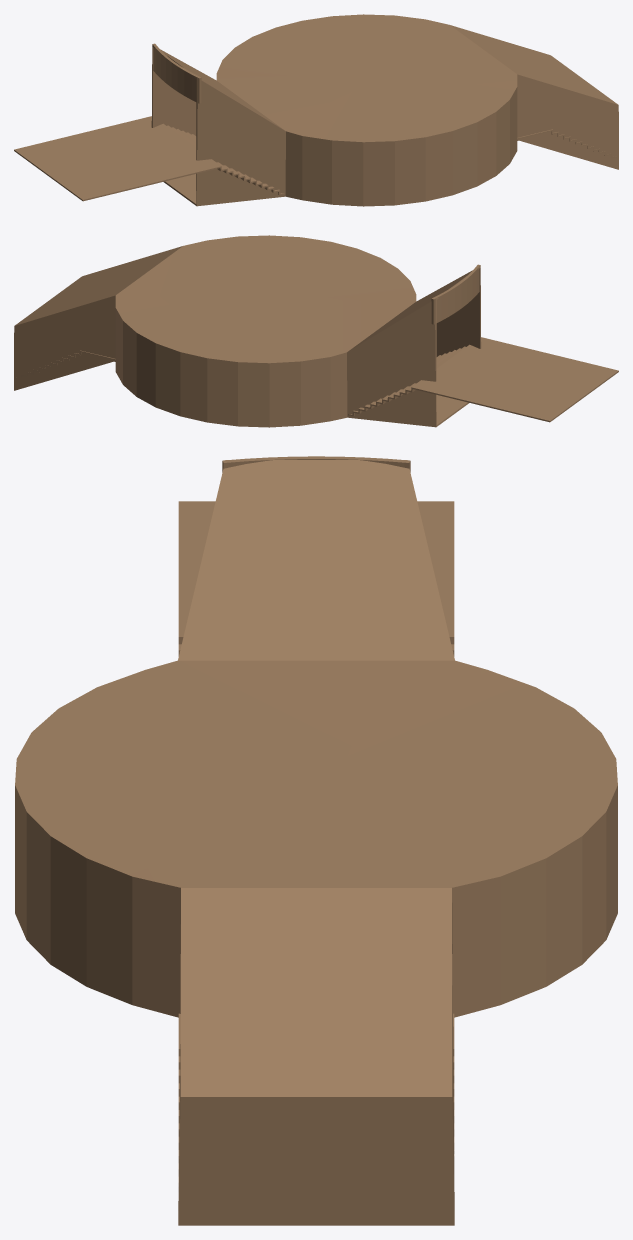
The model's file is CollisionLowerLVLHall.fbx.
3 views of the same model, one above another, from view 1: azimuth 30°, elevation 25°; view 2: azimuth 150°, elevation 25°; view 3: azimuth 270°, elevation 25° (orthographic). The views are drawn at different scales.
Visible parts, largest first — view 1: CollisionLowerLVLHall; view 2: CollisionLowerLVLHall; view 3: CollisionLowerLVLHall.
Part boxes in pixels (left/top/right/bottom): CollisionLowerLVLHall: left=14, top=14, right=618, bottom=206; CollisionLowerLVLHall: left=14, top=235, right=618, bottom=427; CollisionLowerLVLHall: left=15, top=456, right=617, bottom=1225.
Bounding box in the file's own units: 4106 × 1339 × 1998.
